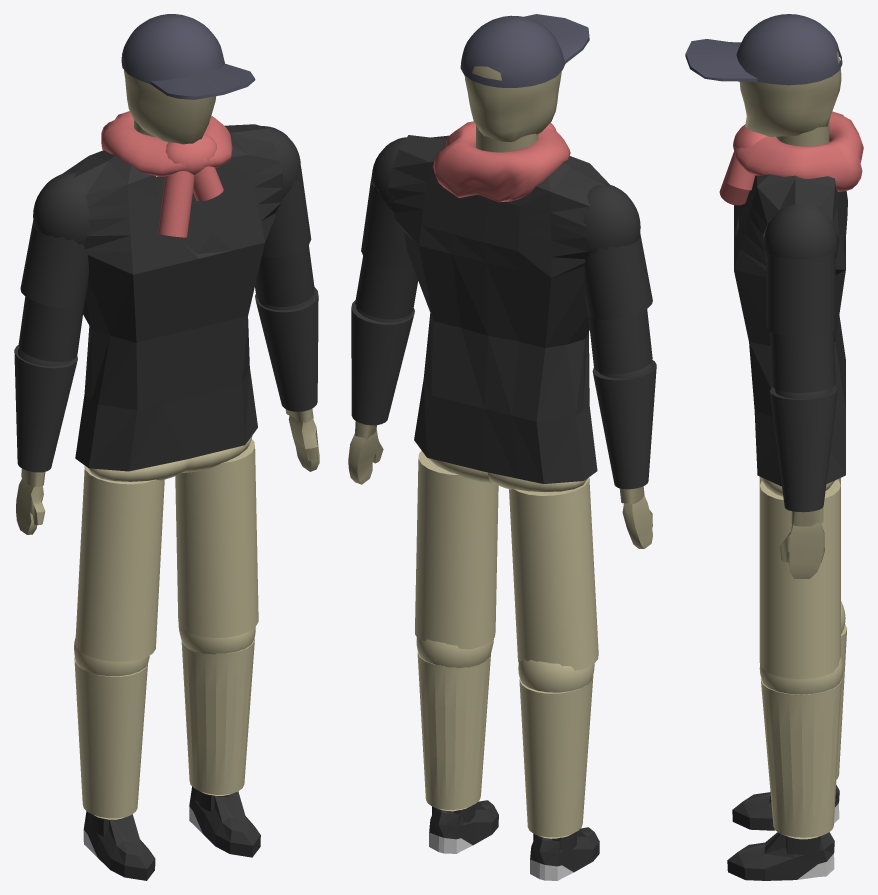
Rendered from scarf.fbx.
The picture shows the model from 3 angles, left to right: view 1: azimuth 30°, elevation 25°; view 2: azimuth 150°, elevation 25°; view 3: azimuth 270°, elevation 25°; orthographic projection.
Parts seen in each view (by area): view 1: casual_guy_for_atmos:pCube24, casual_guy_for_atmos:pCylinder29, casual_guy_for_atmos:pCylinder28, casual_guy_for_atmos:pCylinder22, casual_guy_for_atmos:pCylinder21, casual_guy_for_atmos:pSphere17, casual_guy_for_atmos:pCylinder33, casual_guy_for_atmos:pCylinder31, casual_guy_for_atmos:pCylinder35, casual_guy_for_atmos:pSphere7, pTorus1, casual_guy_for_atmos:pCylinder32 (+16 smaller); view 2: casual_guy_for_atmos:pCube24, casual_guy_for_atmos:pCylinder29, casual_guy_for_atmos:pCylinder28, casual_guy_for_atmos:pCylinder22, casual_guy_for_atmos:pCylinder21, casual_guy_for_atmos:pSphere17, pTorus1, casual_guy_for_atmos:pCylinder33, casual_guy_for_atmos:pCylinder31, casual_guy_for_atmos:pSphere7, casual_guy_for_atmos:pCylinder35, casual_guy_for_atmos:pCylinder32 (+12 smaller); view 3: casual_guy_for_atmos:pCube24, casual_guy_for_atmos:pCylinder28, casual_guy_for_atmos:pCylinder21, casual_guy_for_atmos:pSphere17, casual_guy_for_atmos:pCylinder31, casual_guy_for_atmos:pCylinder34, pTorus1, casual_guy_for_atmos:pSphere7, casual_guy_for_atmos:pCylinder30, casual_guy_for_atmos:pCube12, casual_guy_for_atmos:pSphere24, casual_guy_for_atmos:pCube3 (+9 smaller).
Part boxes in pixels (x1,y1,x2,y2): casual_guy_for_atmos:pCube24: (62,124,282,471); casual_guy_for_atmos:pCylinder29: (75,466,164,661); casual_guy_for_atmos:pCylinder28: (175,439,258,637); casual_guy_for_atmos:pCylinder22: (74,657,147,819); casual_guy_for_atmos:pCylinder21: (181,638,254,795); casual_guy_for_atmos:pSphere17: (121,14,255,99); casual_guy_for_atmos:pCylinder33: (14,345,77,472); casual_guy_for_atmos:pCylinder31: (255,287,318,411); casual_guy_for_atmos:pCylinder35: (20,221,88,308); casual_guy_for_atmos:pSphere7: (123,69,216,144); pTorus1: (101,111,232,176); casual_guy_for_atmos:pCylinder32: (18,296,84,361); casual_guy_for_atmos:pCube24: (388,135,609,483); casual_guy_for_atmos:pCylinder29: (509,477,598,670); casual_guy_for_atmos:pCylinder28: (415,450,498,649); casual_guy_for_atmos:pCylinder22: (519,676,593,838); casual_guy_for_atmos:pCylinder21: (417,651,490,811); casual_guy_for_atmos:pSphere17: (460,14,589,87); pTorus1: (433,121,570,202); casual_guy_for_atmos:pCylinder33: (592,360,656,489); casual_guy_for_atmos:pCylinder31: (351,300,414,425); casual_guy_for_atmos:pSphere7: (464,66,561,141); casual_guy_for_atmos:pCylinder35: (584,234,652,319); casual_guy_for_atmos:pCylinder32: (588,309,652,373); casual_guy_for_atmos:pCube24: (734,174,847,486); casual_guy_for_atmos:pCylinder28: (759,479,840,679); casual_guy_for_atmos:pCylinder21: (761,679,841,839); casual_guy_for_atmos:pSphere17: (685,14,842,85); casual_guy_for_atmos:pCylinder31: (769,386,837,512); casual_guy_for_atmos:pCylinder34: (766,253,835,336); pTorus1: (733,111,863,191); casual_guy_for_atmos:pSphere7: (739,51,841,136); casual_guy_for_atmos:pCylinder30: (770,331,835,392); casual_guy_for_atmos:pCube12: (727,832,834,880); casual_guy_for_atmos:pSphere24: (764,204,837,260); casual_guy_for_atmos:pCube3: (780,522,824,578).
Bounding box in the file's own units: 8.44 × 22.57 × 4.41.
